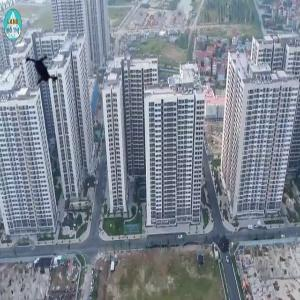drone: (13, 45, 70, 102)
